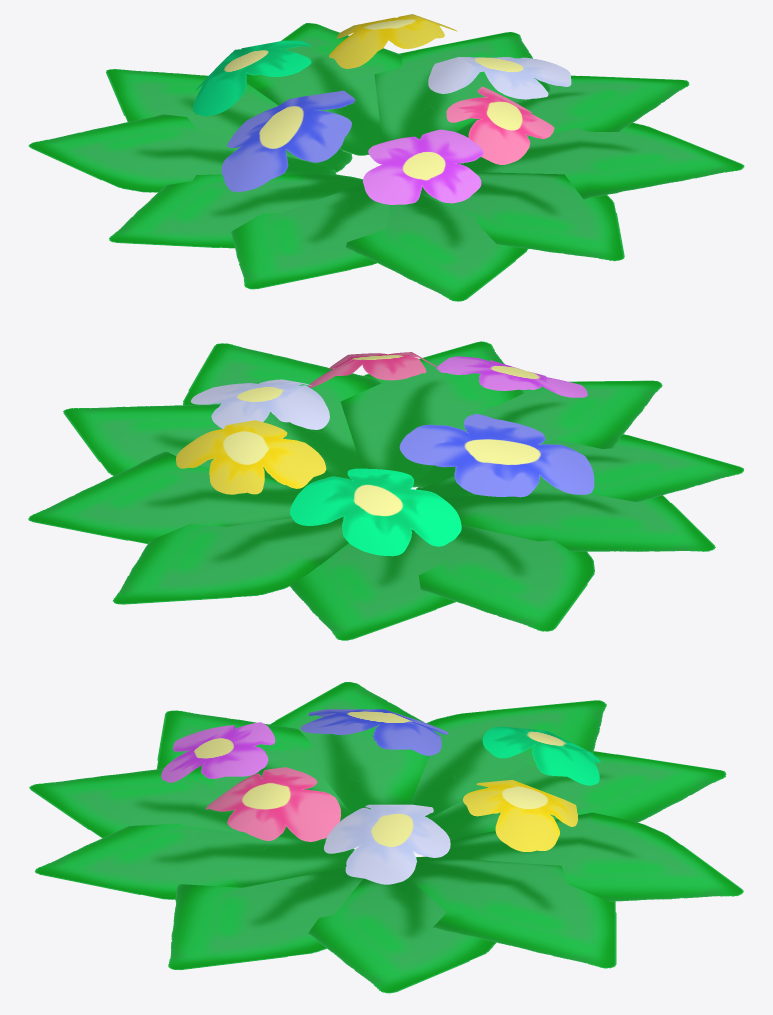
The model's file is SM_Flowers_01.fbx.
3 renders of one model, top to bottom at view 1: azimuth 30°, elevation 25°; view 2: azimuth 150°, elevation 25°; view 3: azimuth 270°, elevation 25°, orthographic. The views are drawn at different scales.
Parts seen in each view (by area): view 1: SM_Flowers_01; view 2: SM_Flowers_01; view 3: SM_Flowers_01.
Boxes of the visible parts, x1=… form: SM_Flowers_01: x1=28, y1=14, x2=744, y2=301; SM_Flowers_01: x1=28, y1=341, x2=743, y2=640; SM_Flowers_01: x1=29, y1=682, x2=743, y2=993.
Size of the model in its own units: 21.09 by 2.96 by 20.47.
